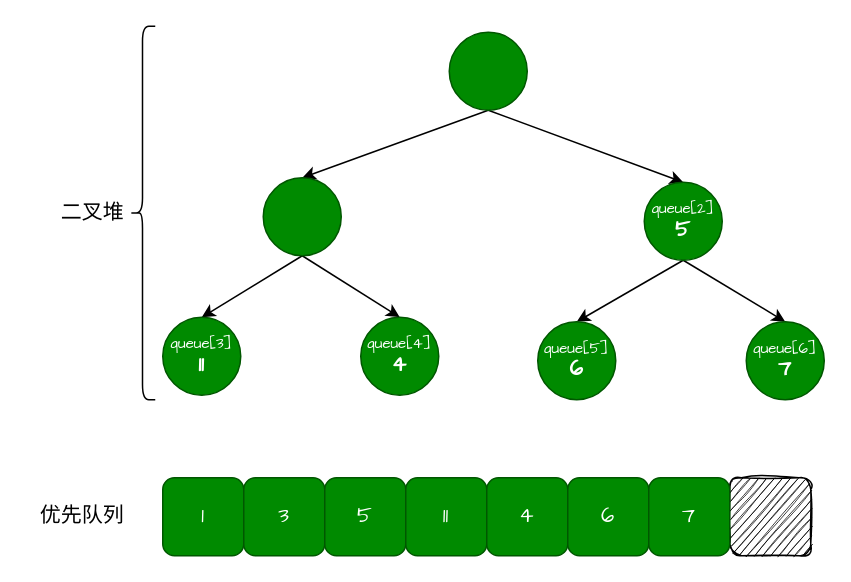
This 851x582 diagram has some shape labels left out. Each missing label, with the centre of its shape:
"queue[0] 1" belongs at (487,70).
"queue[1] 3" belongs at (301,216).
